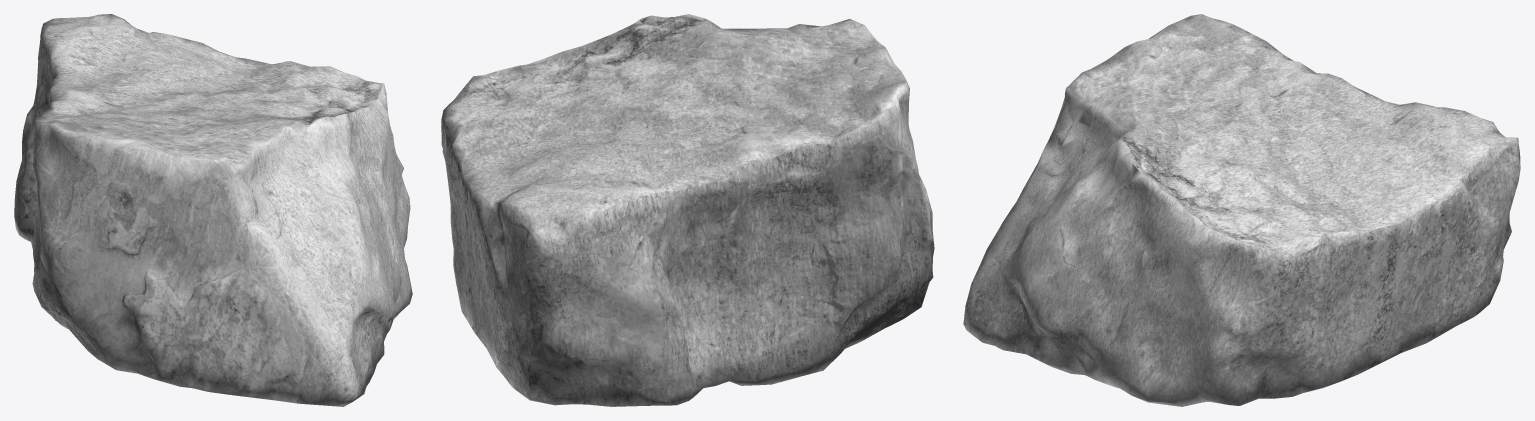
Rendered from namaqualand_boulder_03.glb.
The picture shows the model from 3 angles, left to right: view 1: azimuth 30°, elevation 25°; view 2: azimuth 150°, elevation 25°; view 3: azimuth 270°, elevation 25°; orthographic projection. The views are drawn at different scales.
Parts seen in each view (by area): view 1: namaqualand_boulder_03; view 2: namaqualand_boulder_03; view 3: namaqualand_boulder_03.
Boxes of the visible parts, x1,y1,x2,y2 form: namaqualand_boulder_03: (14,14,412,406); namaqualand_boulder_03: (441,14,934,406); namaqualand_boulder_03: (963,14,1520,406).
Size of the model in its own units: 2.4 by 1.48 by 3.07.
1 material, 1 textured.
